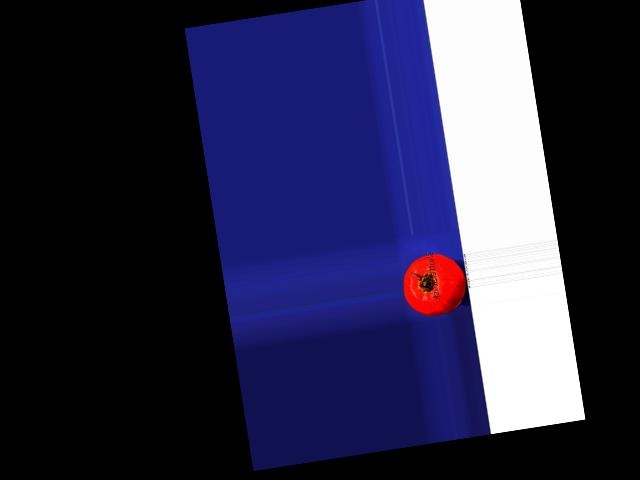tomato: (399, 250, 469, 320)
